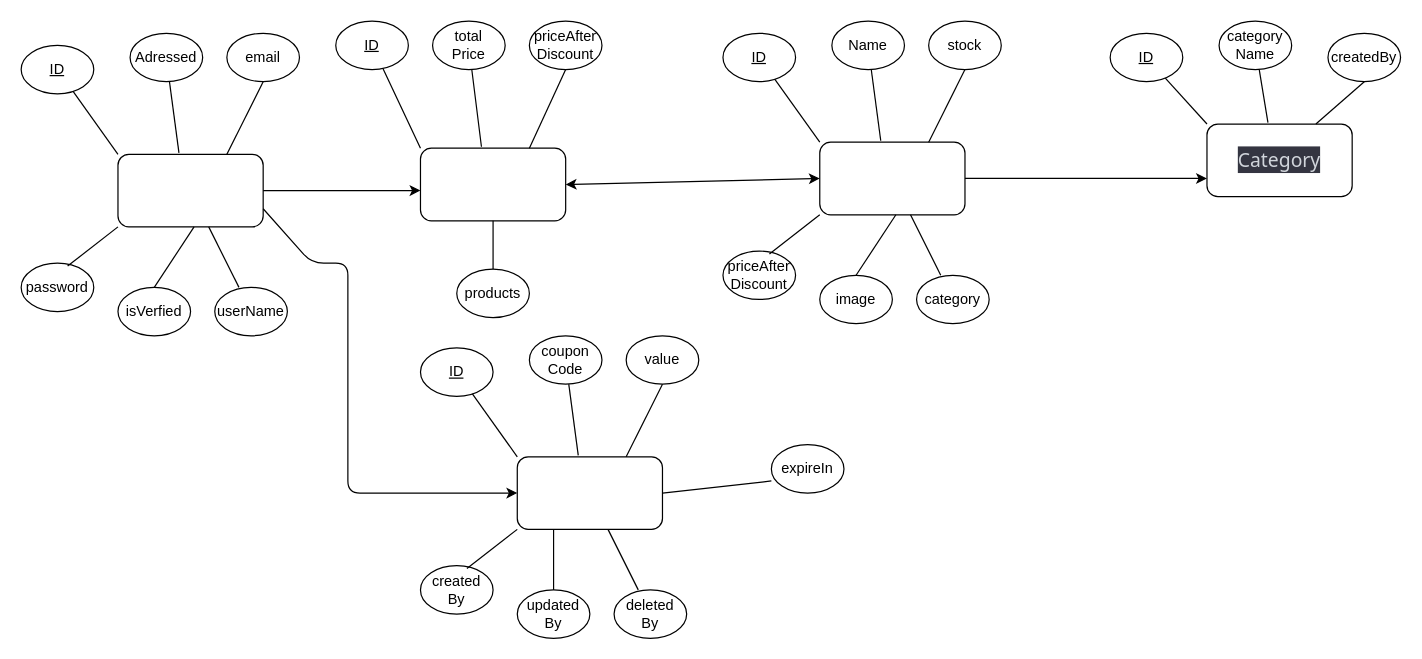
This 1422x659 diagram has some shape labels left out. Here are the shapes that lost their labels. From the top down, the centre of each, then its label:
the point at 190,190: User
the point at 492,184: Cart
the point at 892,178: Product
the point at 589,492: Coupon
